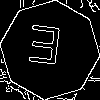E: (25, 25, 64, 74)
